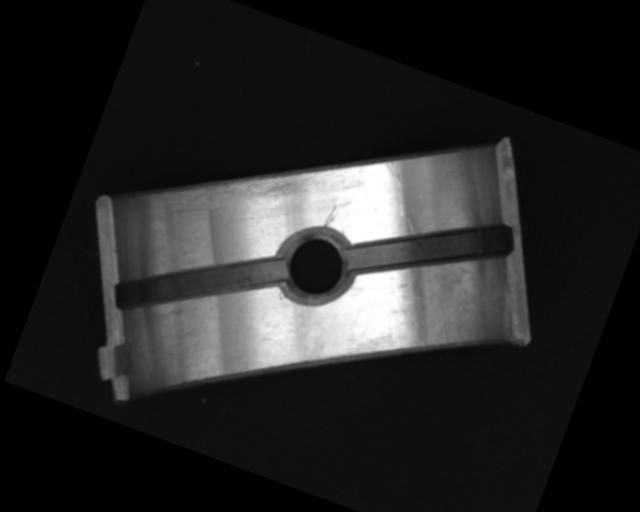gap: (109, 207, 290, 357), (345, 180, 516, 317)
hole: (269, 219, 362, 314)
nick: (370, 159, 419, 217), (323, 203, 338, 227)
scratch: (155, 127, 311, 252)
